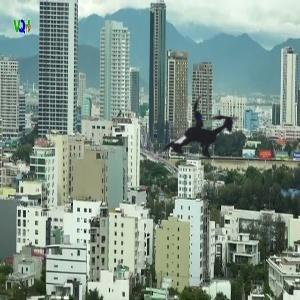drone: (129, 65, 265, 201)
